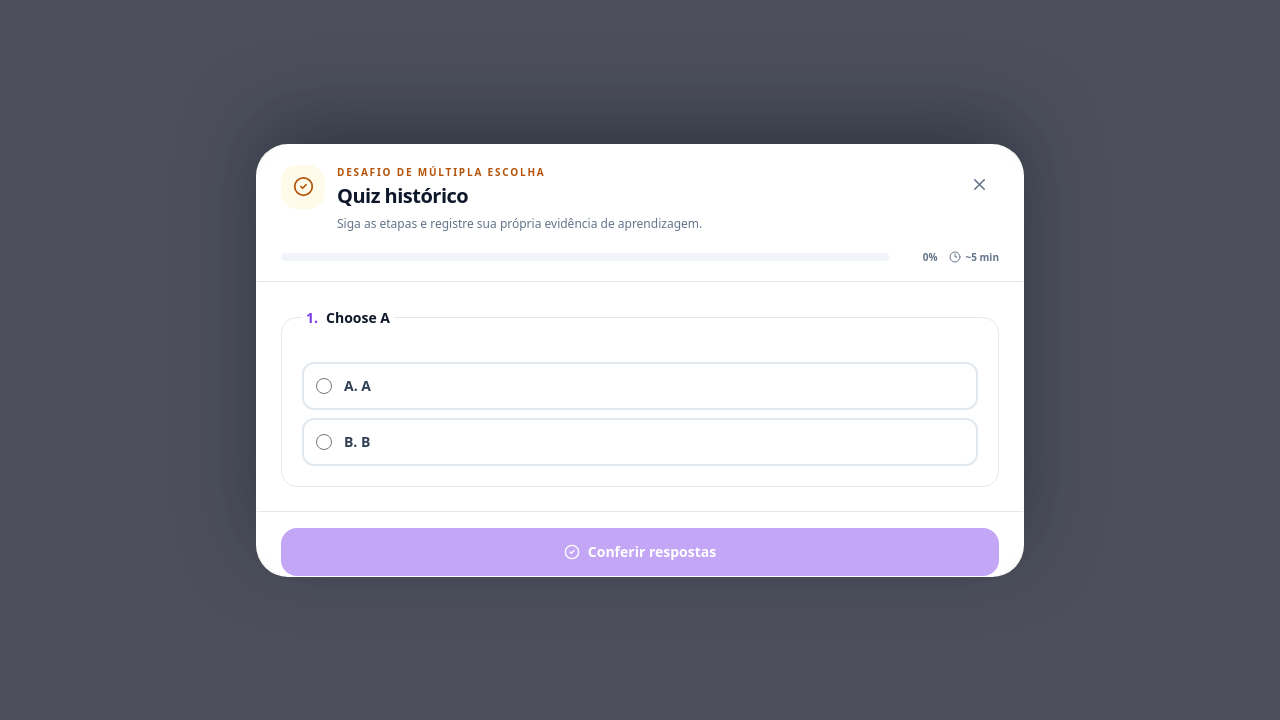
Test case: ComplementaryActivityPlayer › não inventa nota zero quando uma atividade objetiva antiga não possui correção canônica
What coordinates should you click on to do the following:
click the radio button labelled "A. A"
I would click on:
 (324, 386)
Its box is [316,378,332,394].
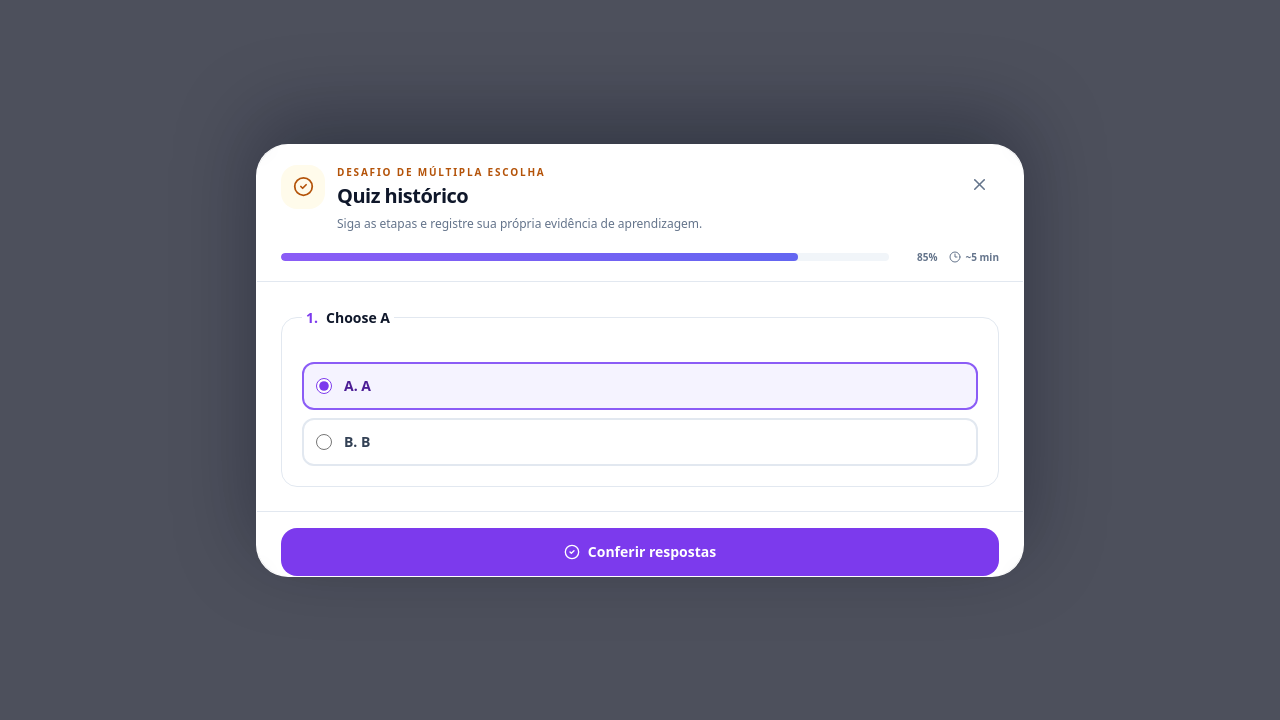
What coordinates should you click on to do the following:
click the button "Conferir respostas"
I would click on:
 (640, 552)
Its box is [281,528,999,576].
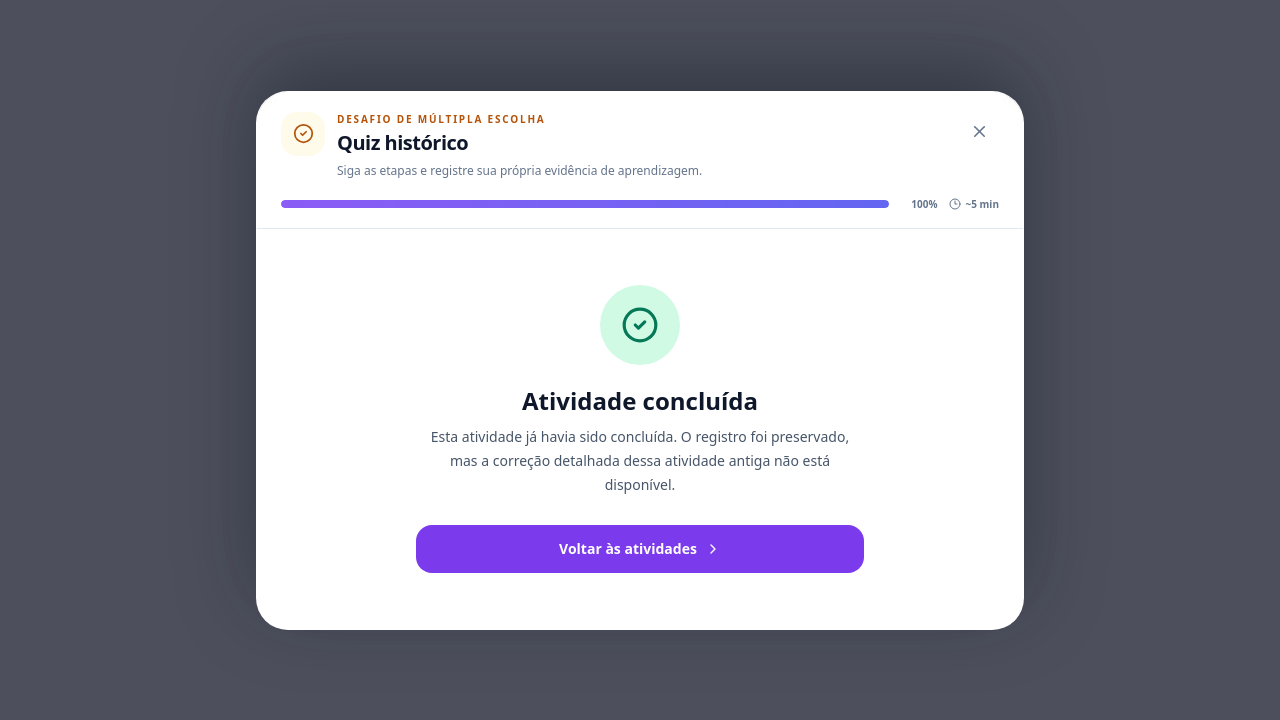
Expected: the heading "Atividade concluída" is shown, [522,384,758,416]
Expected: the text "correção detalhada dessa atividade antiga não está disponível" is shown, [431,426,849,494]
